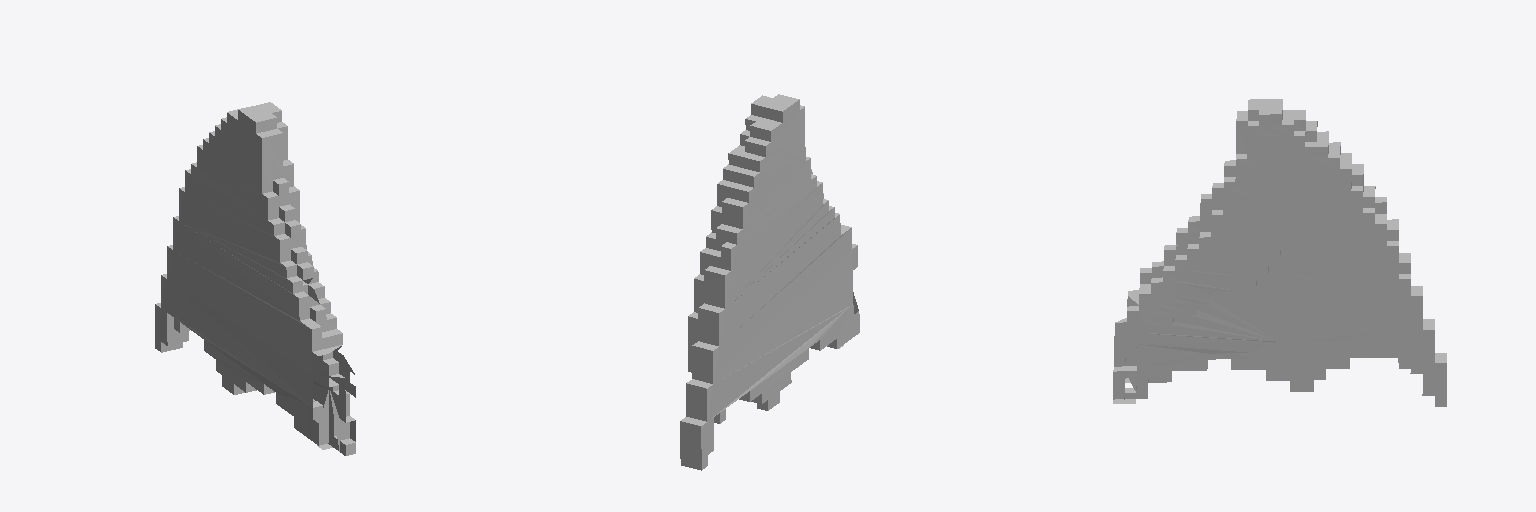
The model's file is DragoniteAla2.obj.
3 views of the same model, side by side, from view 1: azimuth 30°, elevation 25°; view 2: azimuth 150°, elevation 25°; view 3: azimuth 270°, elevation 25° (orthographic).
Visible parts, largest first — view 1: default; view 2: default; view 3: default.
Part boxes in pixels (bbox=[...]): default: bbox=[155, 102, 355, 455]; default: bbox=[680, 94, 859, 470]; default: bbox=[1113, 99, 1446, 406].
Bounding box in the file's own units: 3.23 × 26.88 × 27.3.